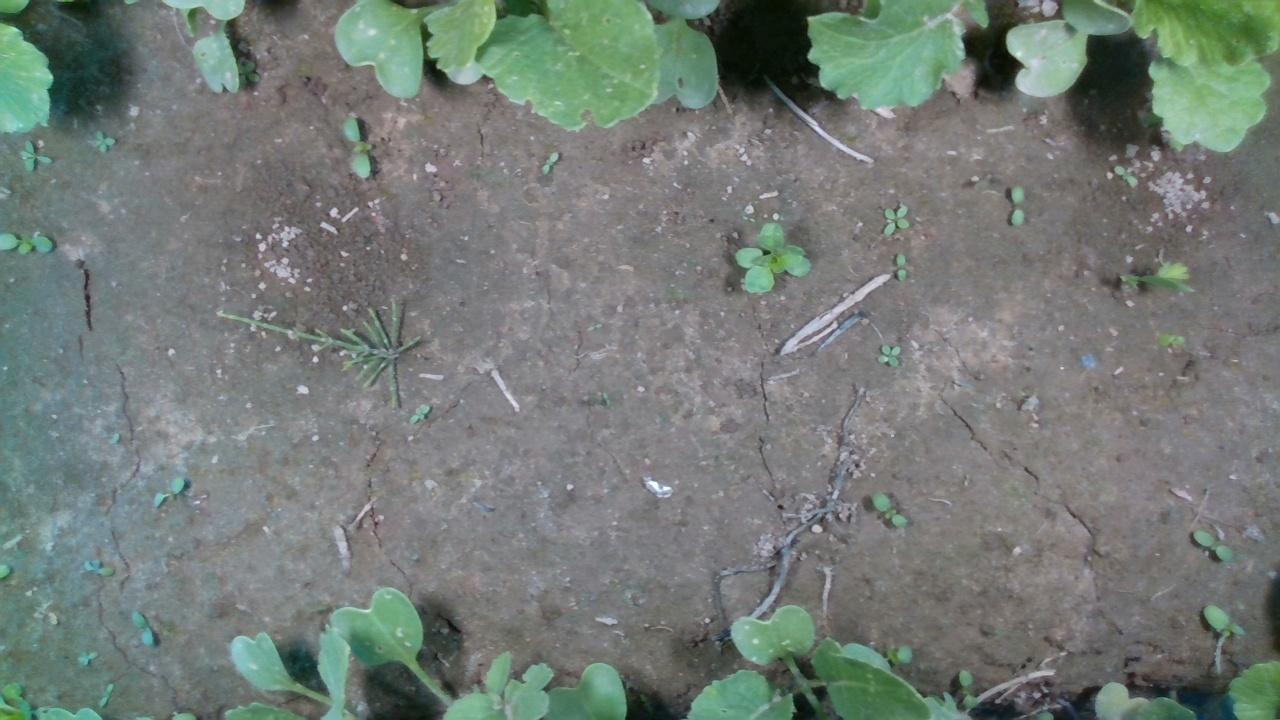weed: (342, 114, 373, 180), (871, 491, 908, 529), (1191, 530, 1234, 562), (18, 139, 54, 172), (152, 477, 185, 510), (882, 204, 910, 237), (130, 610, 154, 648), (957, 669, 977, 710), (1009, 184, 1025, 227), (877, 342, 901, 369), (1112, 164, 1138, 188), (89, 130, 116, 153), (82, 559, 114, 576), (1157, 333, 1187, 350), (408, 403, 431, 425), (540, 150, 560, 175), (98, 683, 114, 709), (895, 251, 907, 282), (77, 649, 97, 666)
